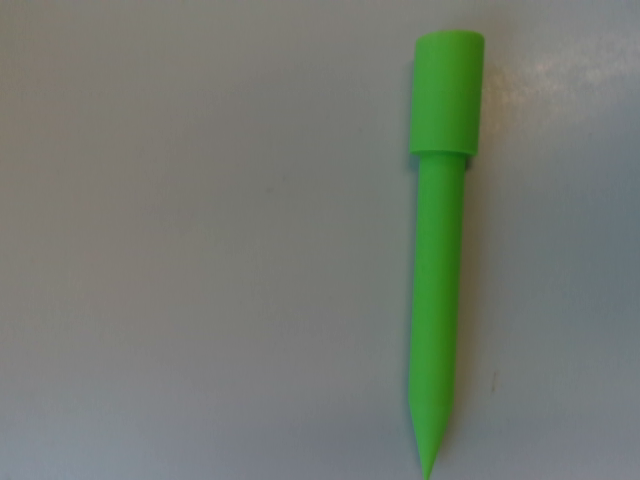Probe: (401, 22, 493, 480)
